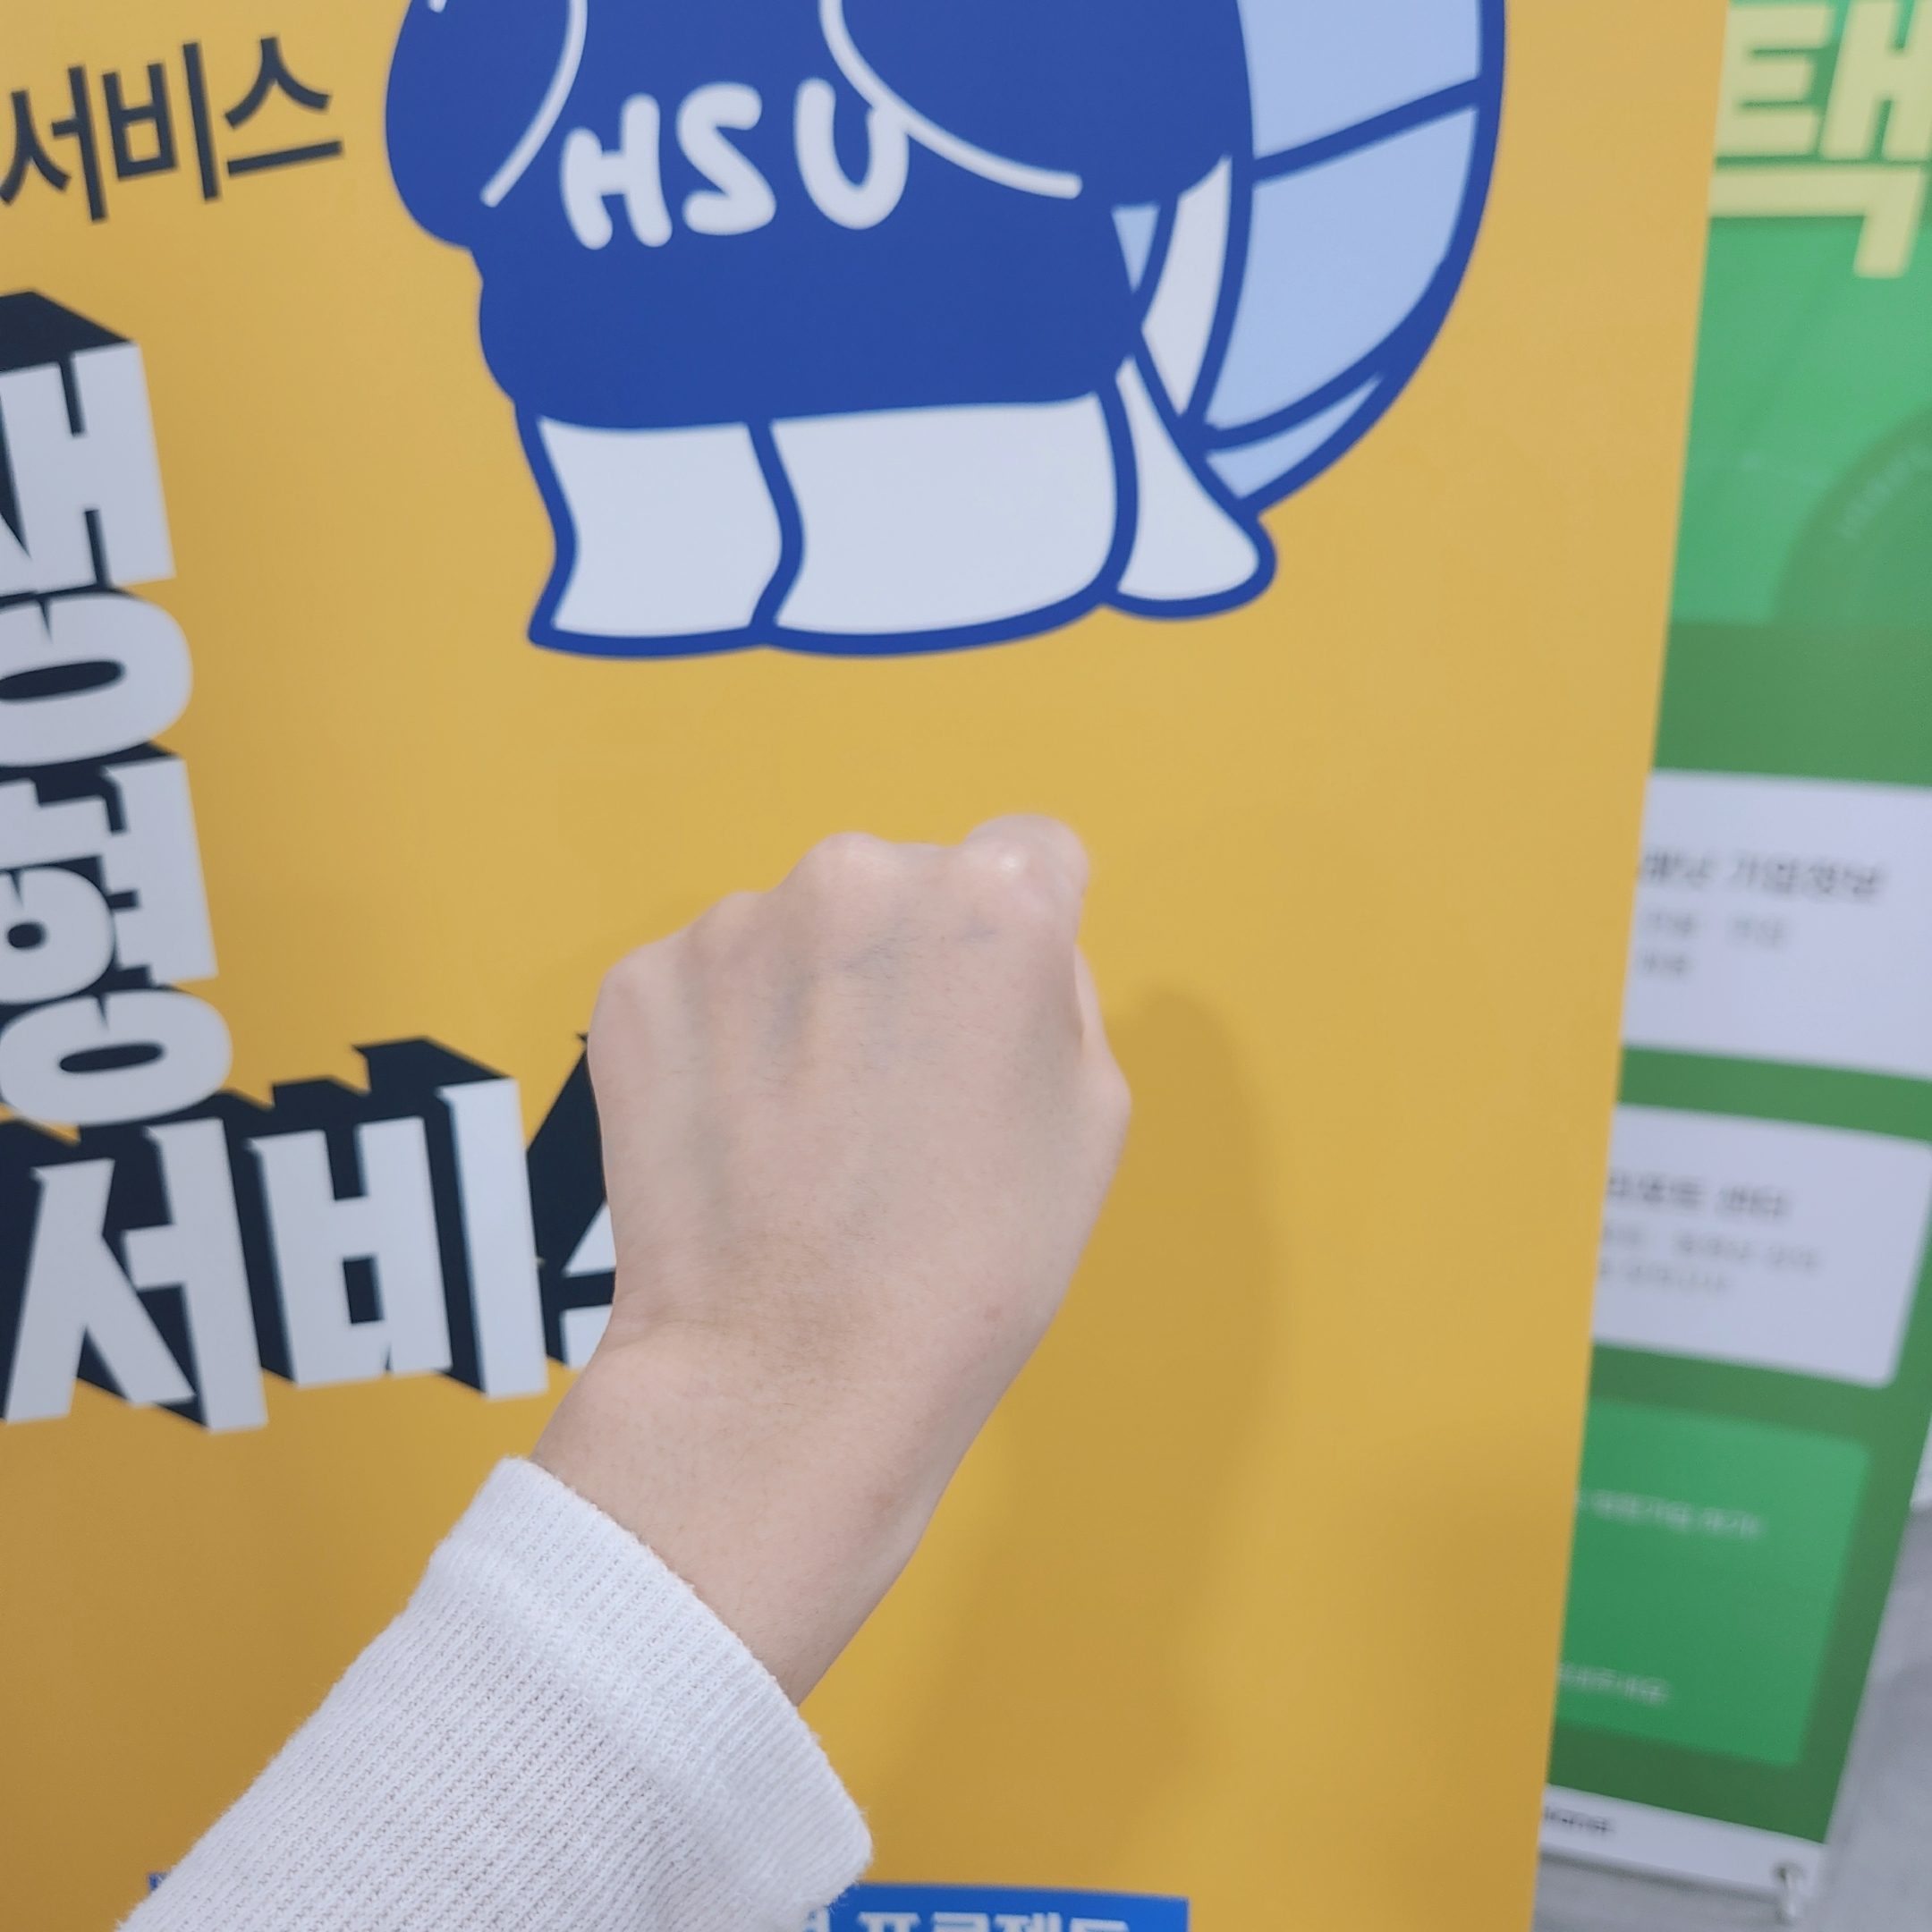smile: (582, 810, 1134, 1454)
